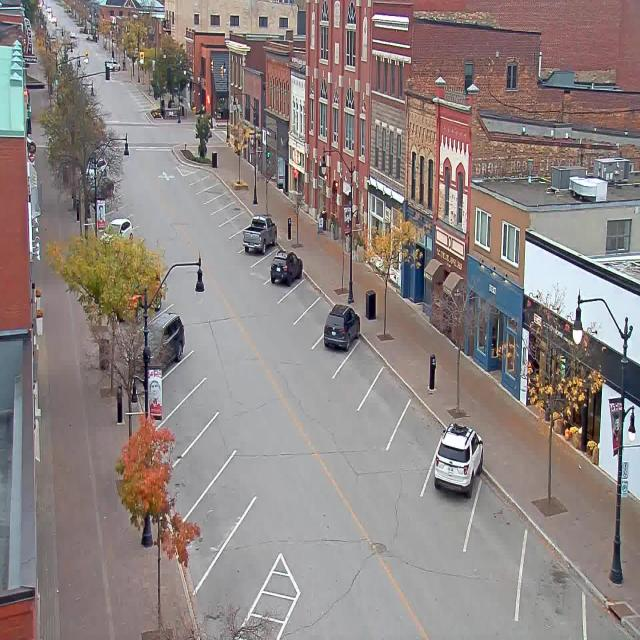available: (514, 516, 586, 632), (463, 468, 538, 578), (226, 494, 301, 589), (211, 443, 272, 534), (396, 402, 448, 473), (363, 365, 417, 432), (196, 404, 246, 476), (575, 585, 636, 640), (178, 369, 227, 436), (344, 328, 390, 390), (168, 337, 209, 395), (304, 289, 336, 329), (290, 272, 320, 310), (255, 237, 282, 271), (226, 196, 243, 219), (234, 209, 250, 232), (218, 187, 234, 210), (210, 179, 226, 199), (192, 162, 206, 183), (202, 170, 216, 190)
occupied: (434, 421, 484, 496), (143, 308, 185, 364), (323, 303, 360, 351), (242, 213, 277, 254), (270, 248, 302, 286)
